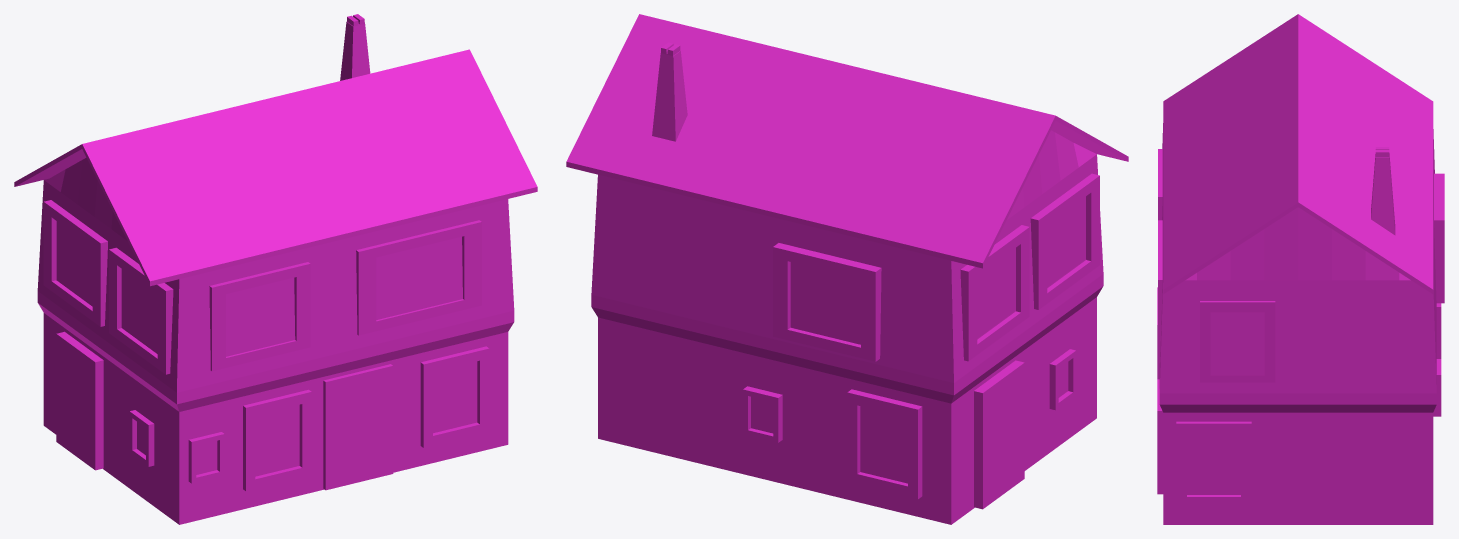
File: House.fbx
The picture shows the model from 3 angles, left to right: view 1: azimuth 30°, elevation 25°; view 2: azimuth 150°, elevation 25°; view 3: azimuth 270°, elevation 25°; orthographic projection. The views are drawn at different scales.
Parts seen in each view (by area): view 1: House; view 2: House; view 3: House.
Part boxes in pixels (x1,y1,x2,y2): House: (14,14,537,524); House: (566,14,1128,524); House: (1157,14,1444,524).
Size of the model in its own units: 825 by 725 by 532.
